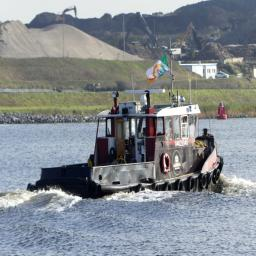tugboat: (24, 35, 227, 208)
